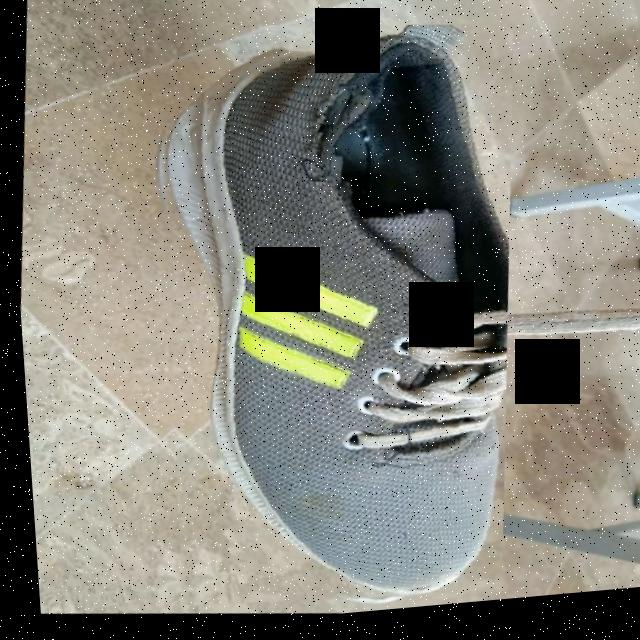shoe: (104, 2, 542, 633)
